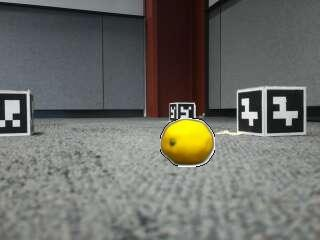lemon: (162, 121, 214, 165)
